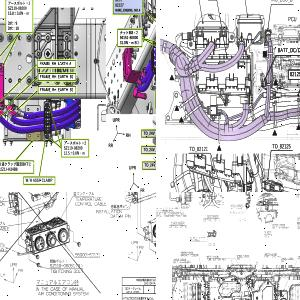PartNumber: (75, 252, 100, 258), (50, 263, 75, 268), (8, 6, 28, 11), (119, 35, 139, 40), (0, 166, 18, 171), (63, 146, 83, 150), (289, 71, 300, 77), (180, 251, 194, 254), (206, 255, 220, 258), (272, 223, 286, 226), (264, 252, 278, 255), (173, 258, 186, 261), (236, 255, 249, 258), (281, 257, 294, 260), (230, 204, 243, 206), (296, 216, 300, 219), (297, 255, 300, 258)
